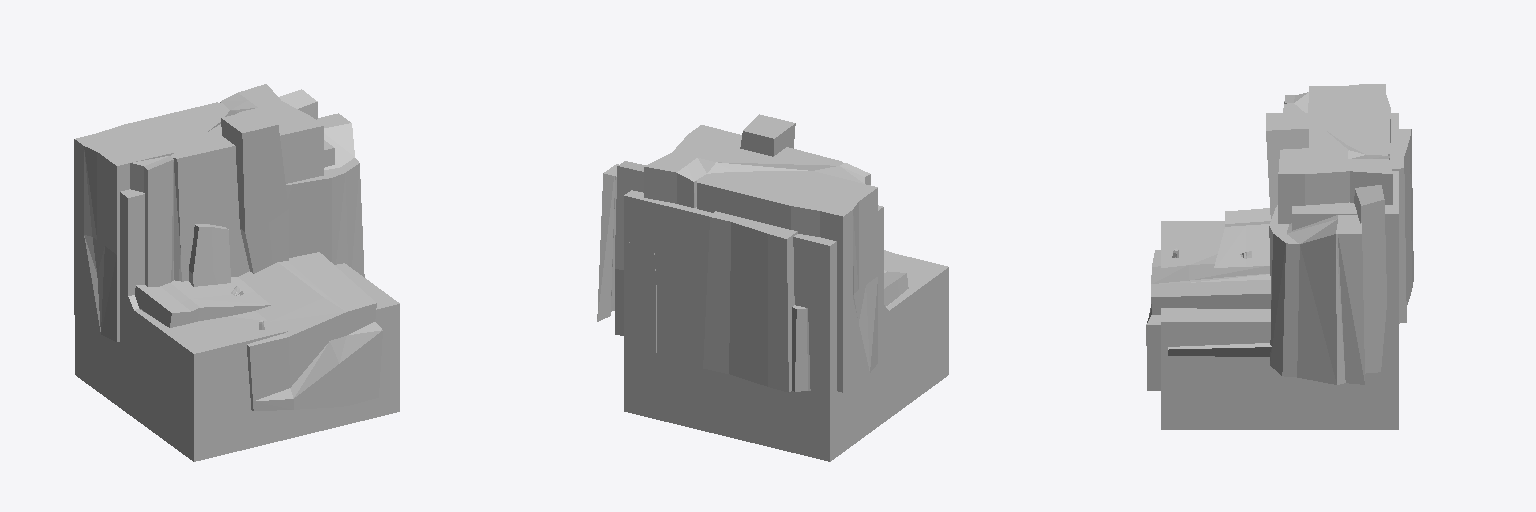
The model's file is cliff_1111_1100.obj.
The picture shows the model from 3 angles: view 1: azimuth 30°, elevation 25°; view 2: azimuth 150°, elevation 25°; view 3: azimuth 270°, elevation 25°; orthographic projection.
Parts seen in each view (by area): view 1: tile_1111_1100; view 2: tile_1111_1100; view 3: tile_1111_1100.
Part boxes in pixels (left/top/right/bottom): tile_1111_1100: left=74, top=84, right=399, bottom=461; tile_1111_1100: left=597, top=114, right=948, bottom=461; tile_1111_1100: left=1146, top=84, right=1413, bottom=429.
Size of the model in its own units: 2.49 by 2.46 by 2.25.